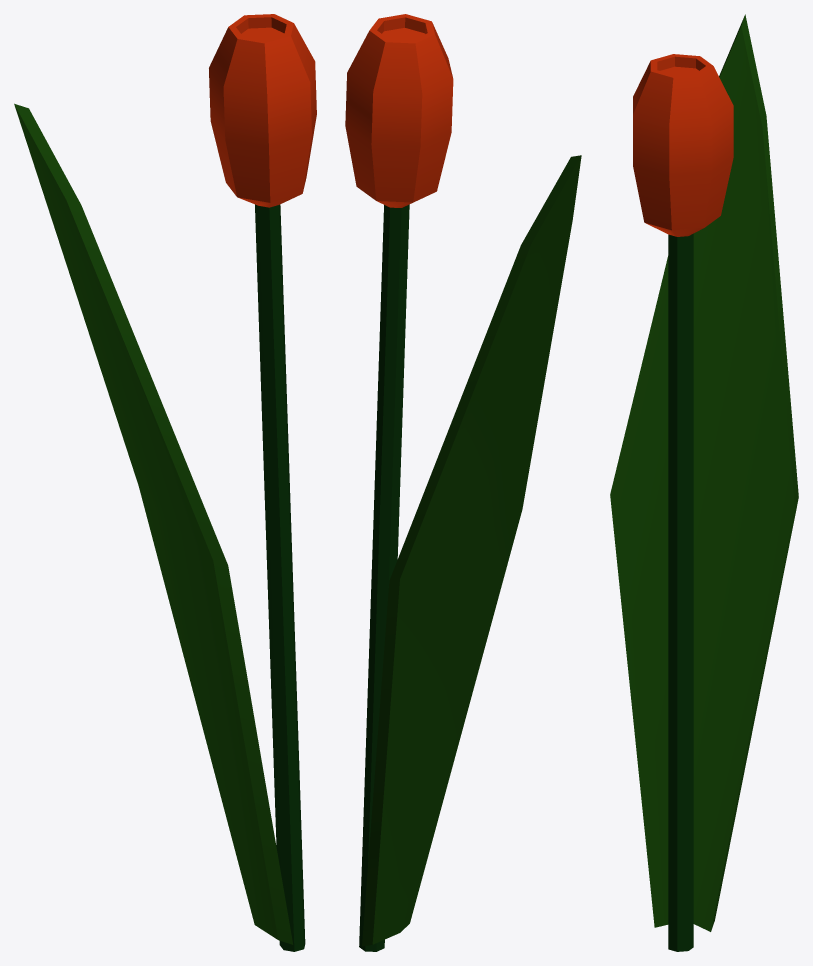
File: Flor_1.obj
3 views of the same model, side by side, from view 1: azimuth 30°, elevation 25°; view 2: azimuth 150°, elevation 25°; view 3: azimuth 270°, elevation 25° (orthographic). The views are drawn at different scales.
Visible parts, largest first — view 1: Flor_1; view 2: Flor_1; view 3: Flor_1.
Part boxes in pixels (x1,y1,x2,y2): Flor_1: (14, 14, 316, 951); Flor_1: (345, 14, 581, 951); Flor_1: (610, 14, 798, 951).
Size of the model in its own units: 0.7572 by 2.56 by 0.5032.
